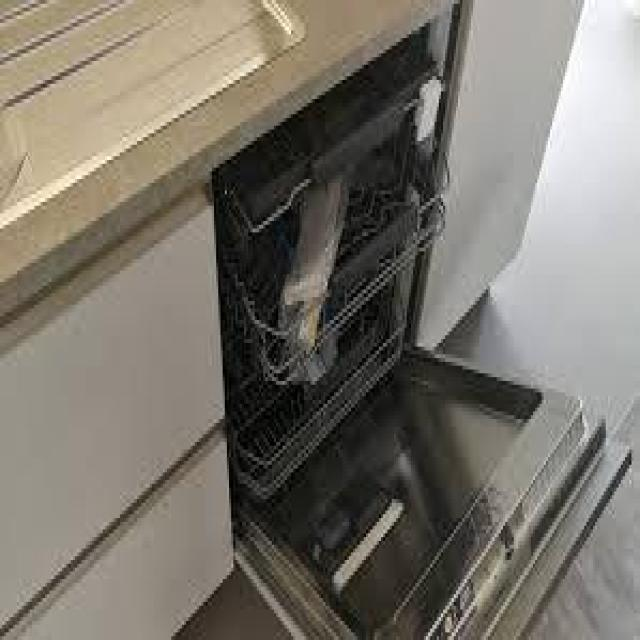dishwasher: (206, 0, 627, 636)
